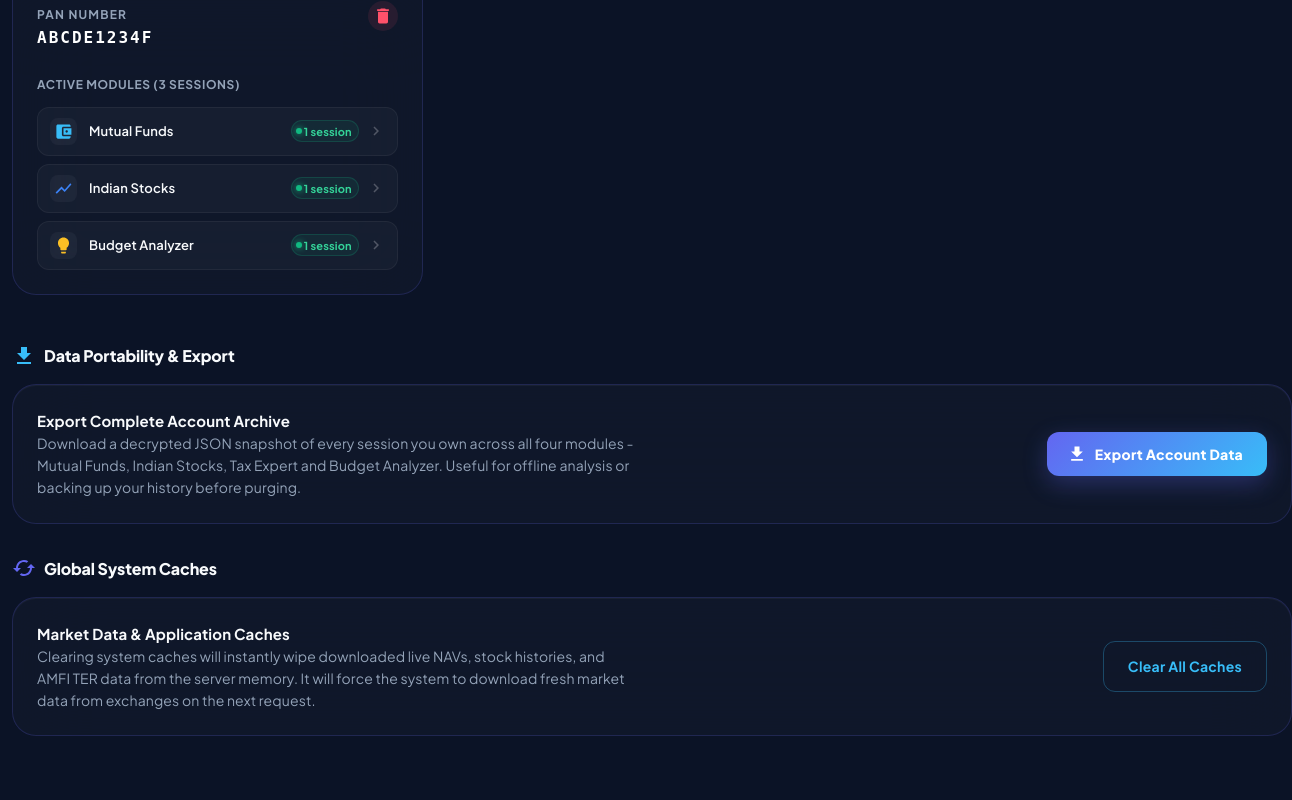
AccountsDashboard › closes snackbar on Alert dismiss
This screenshot has width=1292, height=800.
(page scrolled)
Click the button "Clear All Caches". click: (1185, 667)
box: [1103, 641, 1267, 692]
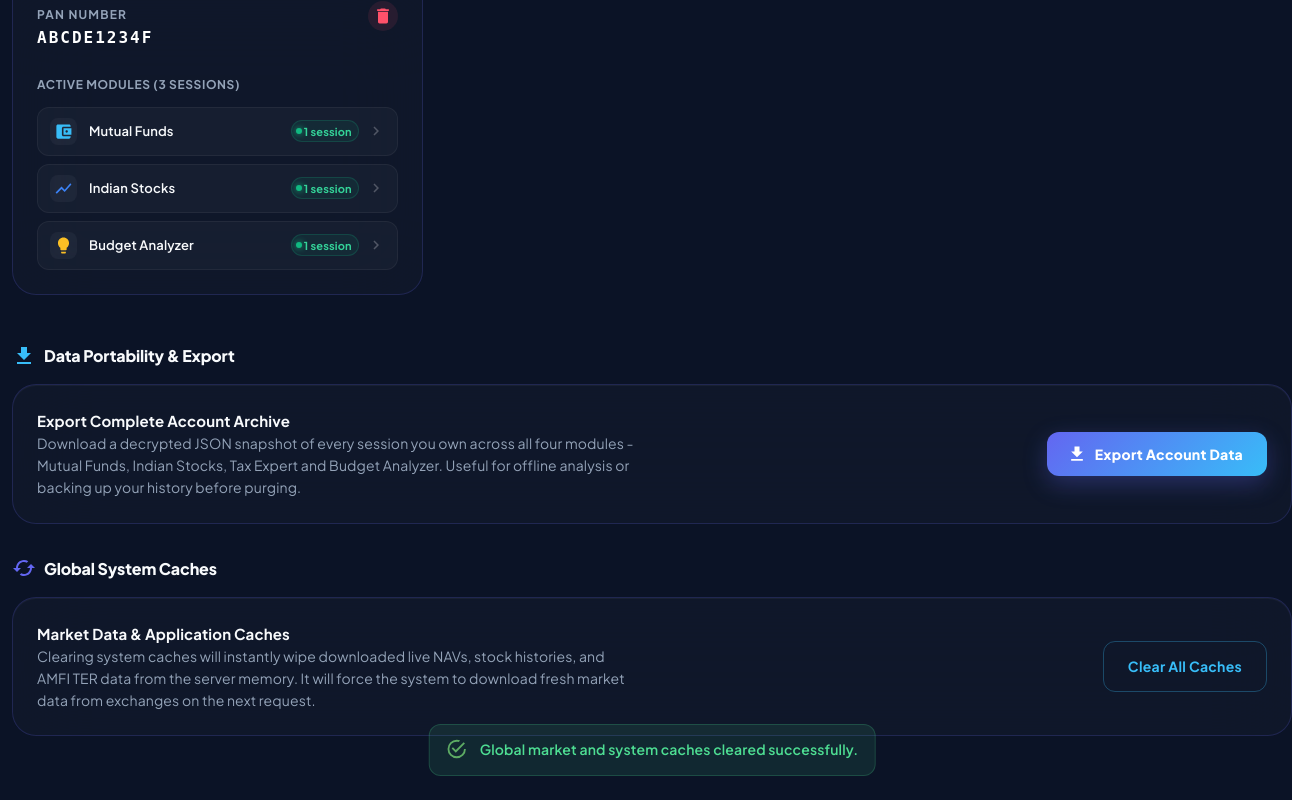
expect the text "Global market and system caches cleared successfully." is shown: met, box [480, 740, 858, 758]
